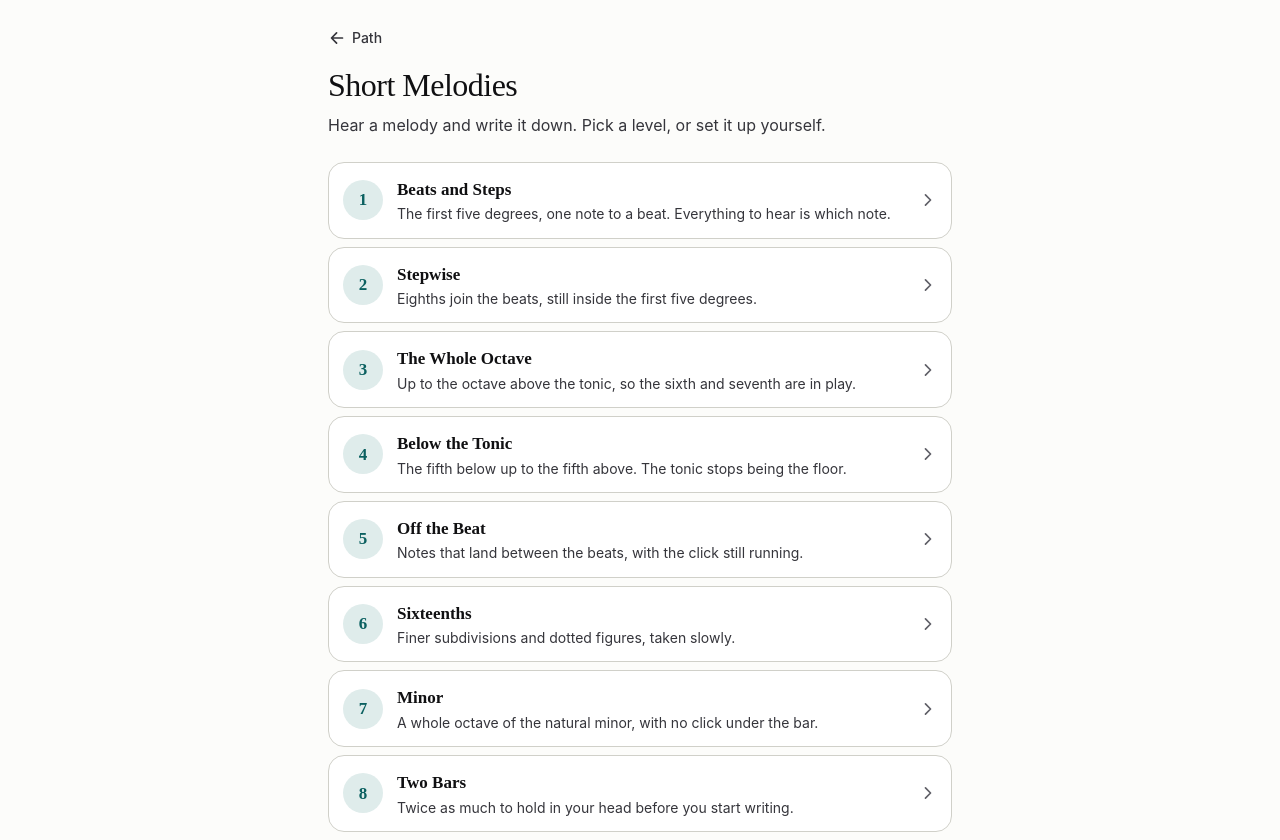
Scenario: Melodic Dictation › starts with an empty answer, since the hint is only a placeholder
Click the text "Two Bars" at (432, 783), box [397,773,466,792]
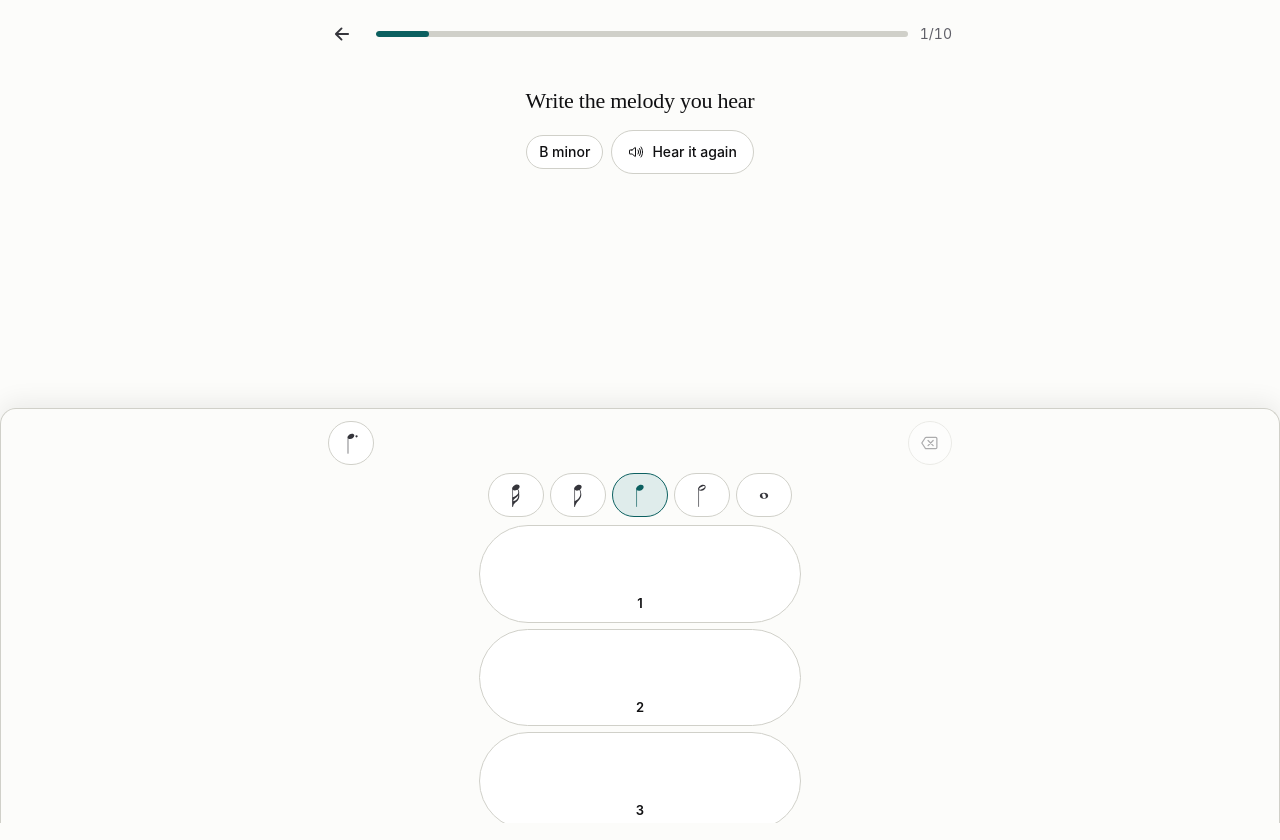
Expected: the 2nd button named "Delete the last one" is disabled, [908,421,952,465]
Click the button named "first degree" at (640, 574), box [479,525,801,623]
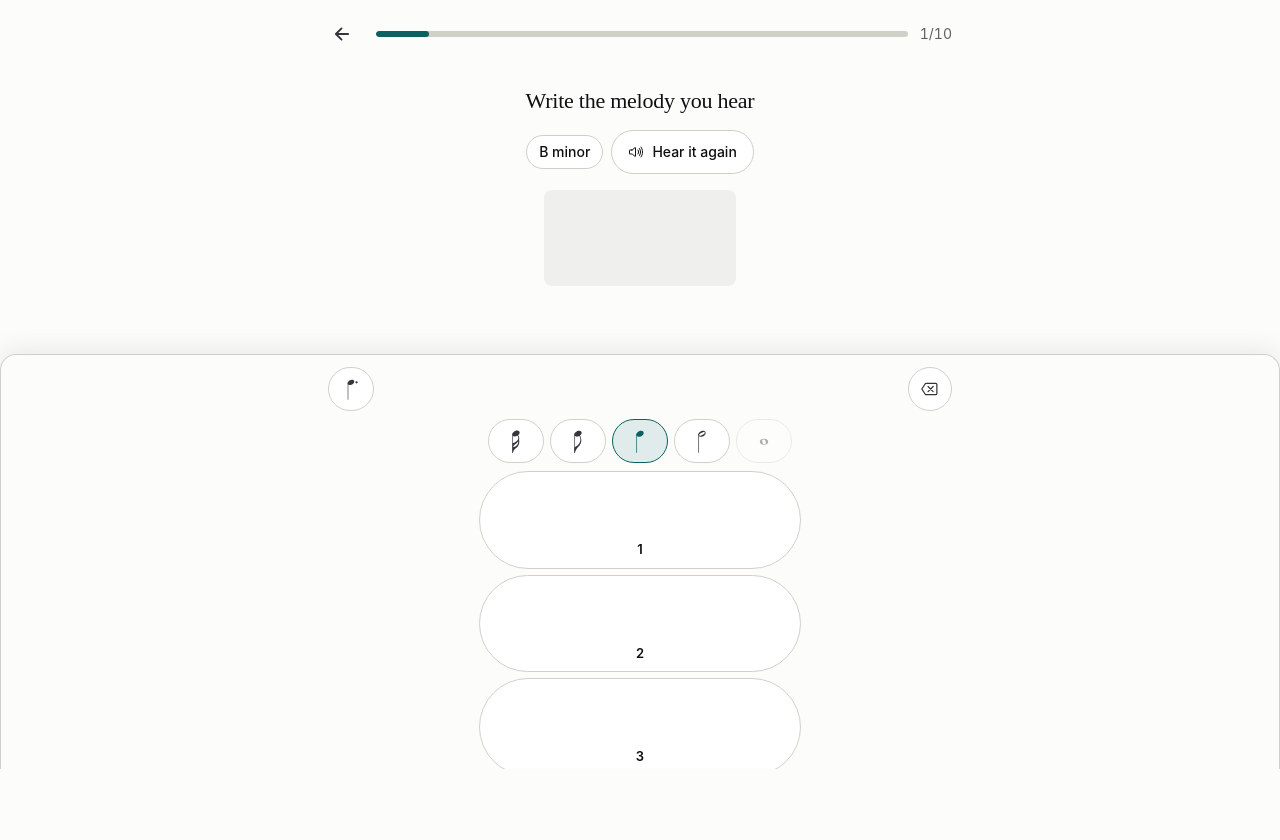
Expected: the 2nd button named "Delete the last one" is enabled
Click the 2nd button named "Delete the last one" at (930, 389), box [908,367,952,411]
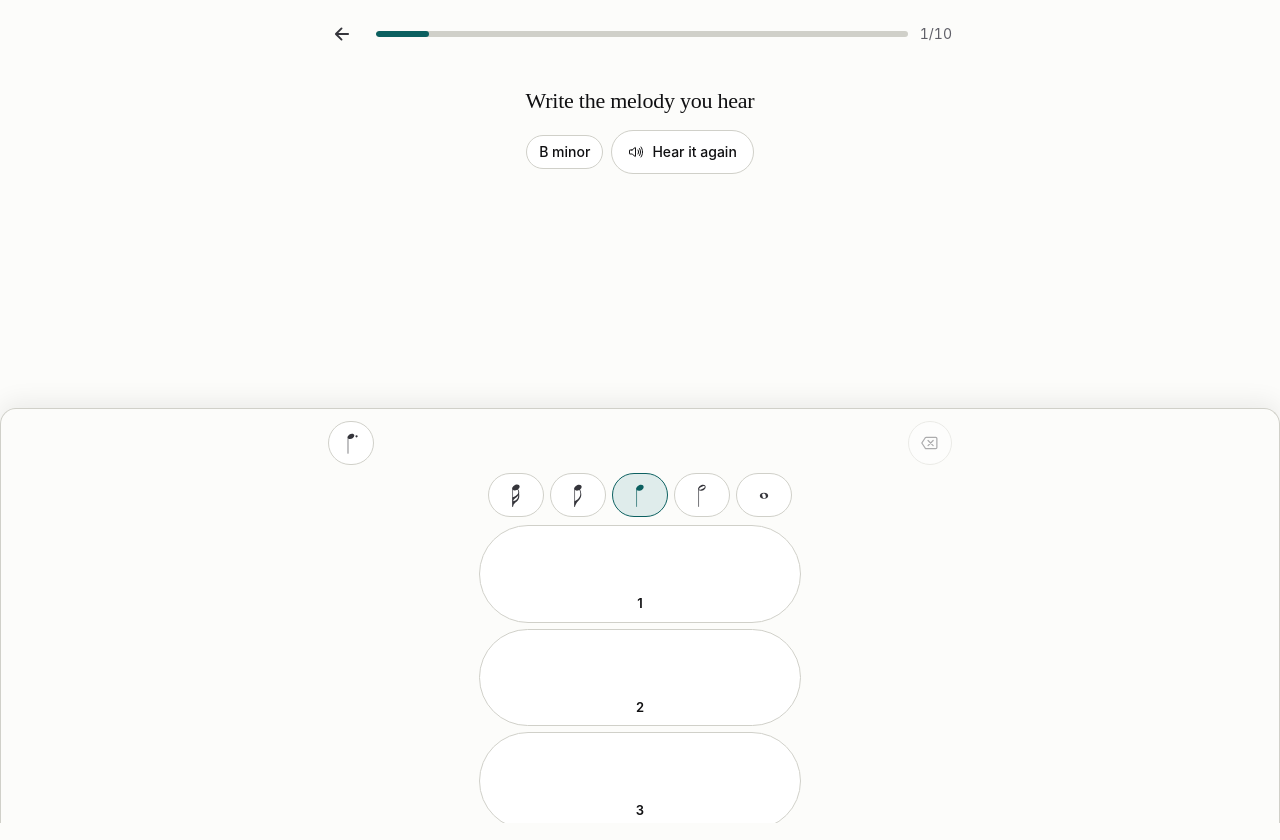
Expected: the 2nd button named "Delete the last one" is disabled, [908,421,952,465]
